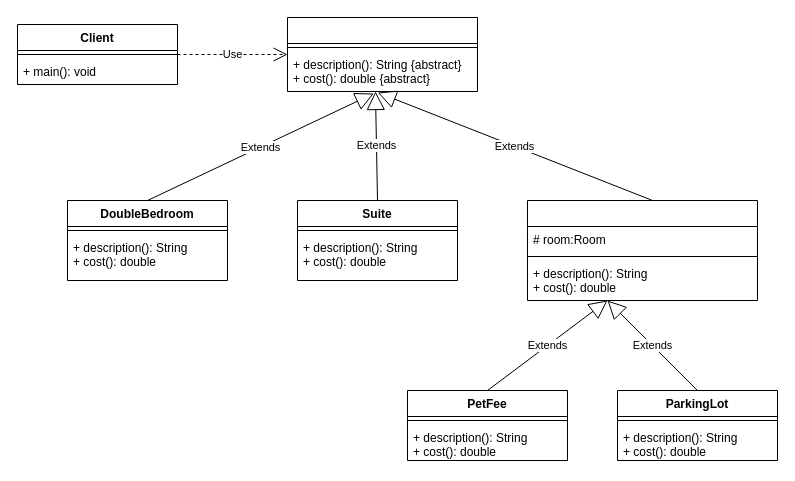
The diagram is 795 pixels wide and 481 high, and some of its shapes have lost their labels. The shapes that lost their labels are listed below. From the top down, each one's box as (x1, y1, x2, y2) in pixels, then its label:
(286, 16, 478, 92): Room {abstract}
(526, 200, 758, 300): RoomDecorator {abstract}
